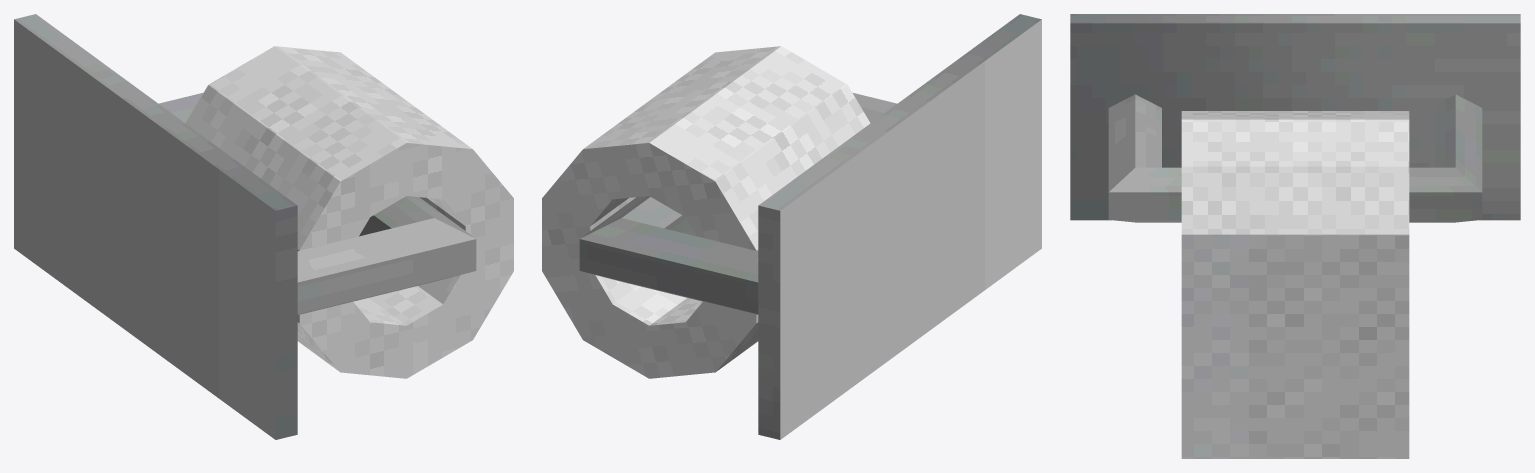
The model's file is toiletPaper.glb.
3 renders of one model, left to right at view 1: azimuth 30°, elevation 25°; view 2: azimuth 150°, elevation 25°; view 3: azimuth 270°, elevation 25°, orthographic. The views are drawn at different scales.
Parts seen in each view (by area): view 1: toiletPaper; view 2: toiletPaper; view 3: toiletPaper.
Part boxes in pixels (<box>): toiletPaper: <box>14,14,513,439</box>; toiletPaper: <box>542,14,1041,439</box>; toiletPaper: <box>1070,14,1520,458</box>.
Bounding box in the file's own units: 0.2015 × 0.2348 × 0.3014.
Materials: 1 (1 with a texture image).
